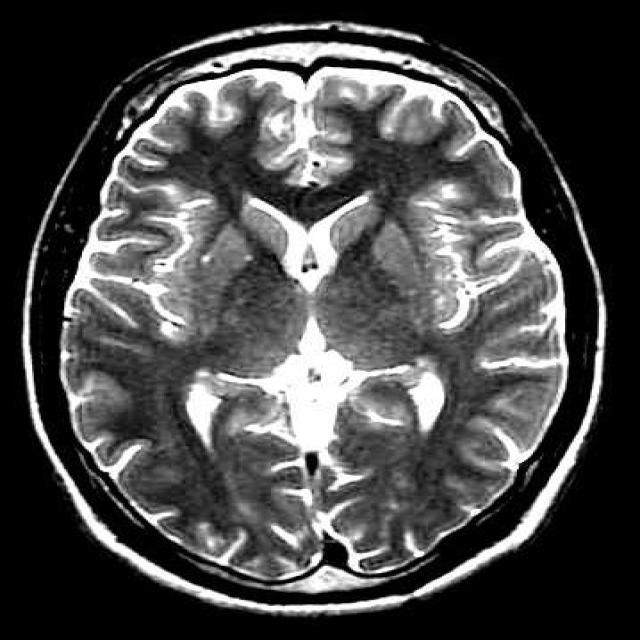notumor: (21, 20, 604, 613)
